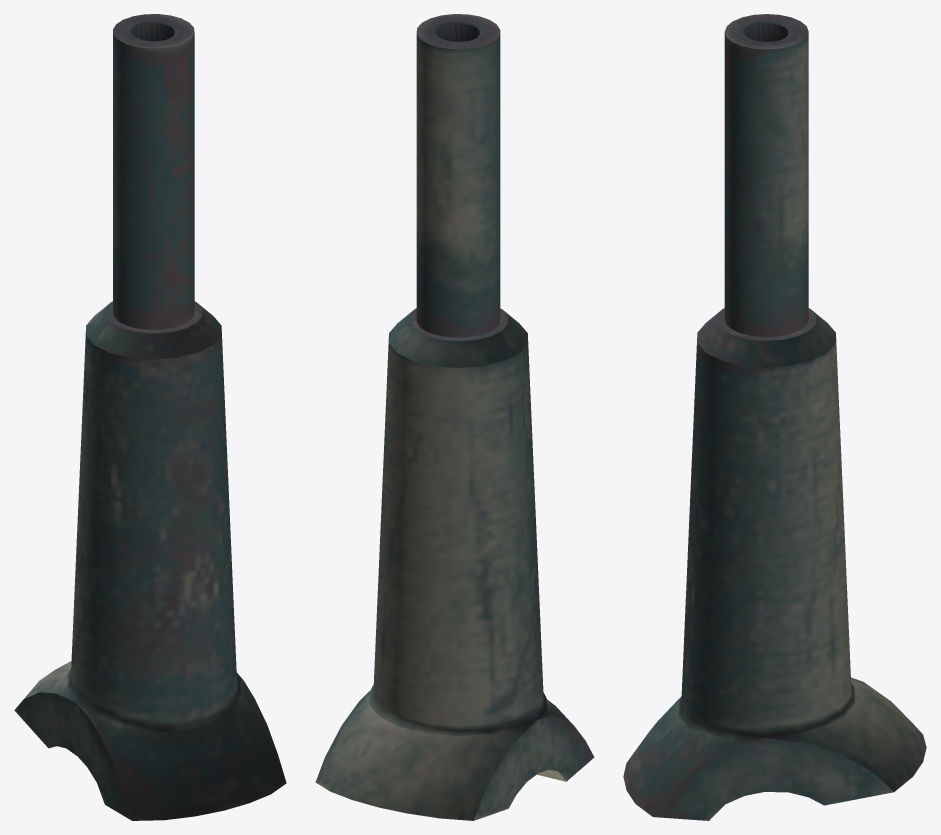
File: Gun_03.glb
The picture shows the model from 3 angles, left to right: view 1: azimuth 30°, elevation 25°; view 2: azimuth 150°, elevation 25°; view 3: azimuth 270°, elevation 25°; orthographic projection. The views are drawn at different scales.
Visible parts, largest first — view 1: set_0_group_0; view 2: set_0_group_0; view 3: set_0_group_0.
Boxes of the visible parts, <box> form: set_0_group_0: <box>14,14,286,820</box>; set_0_group_0: <box>315,14,594,820</box>; set_0_group_0: <box>623,14,926,820</box>.
Bounding box in the file's own units: 0.3096 × 1.41 × 0.5151.
1 material, 1 textured.
